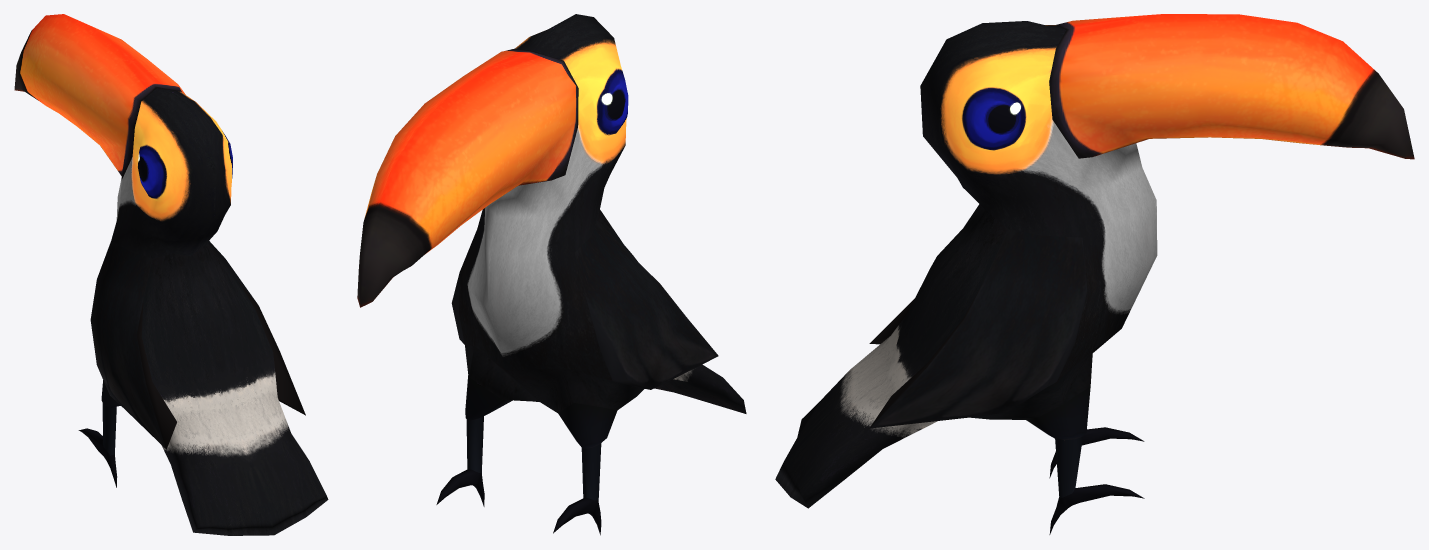
The model's file is low_poly_toucan.glb.
3 views of the same model, side by side, from view 1: azimuth 30°, elevation 25°; view 2: azimuth 150°, elevation 25°; view 3: azimuth 270°, elevation 25° (orthographic). The views are drawn at different scales.
Visible parts, largest first — view 1: Object_2; view 2: Object_2; view 3: Object_2.
Boxes of the visible parts, x1,y1,x2,y2 form: Object_2: (14, 14, 328, 535); Object_2: (357, 14, 746, 535); Object_2: (775, 14, 1414, 534).
Bounding box in the file's own units: 5.67 × 14.48 × 17.01.
Materials: 1 (1 with a texture image).
